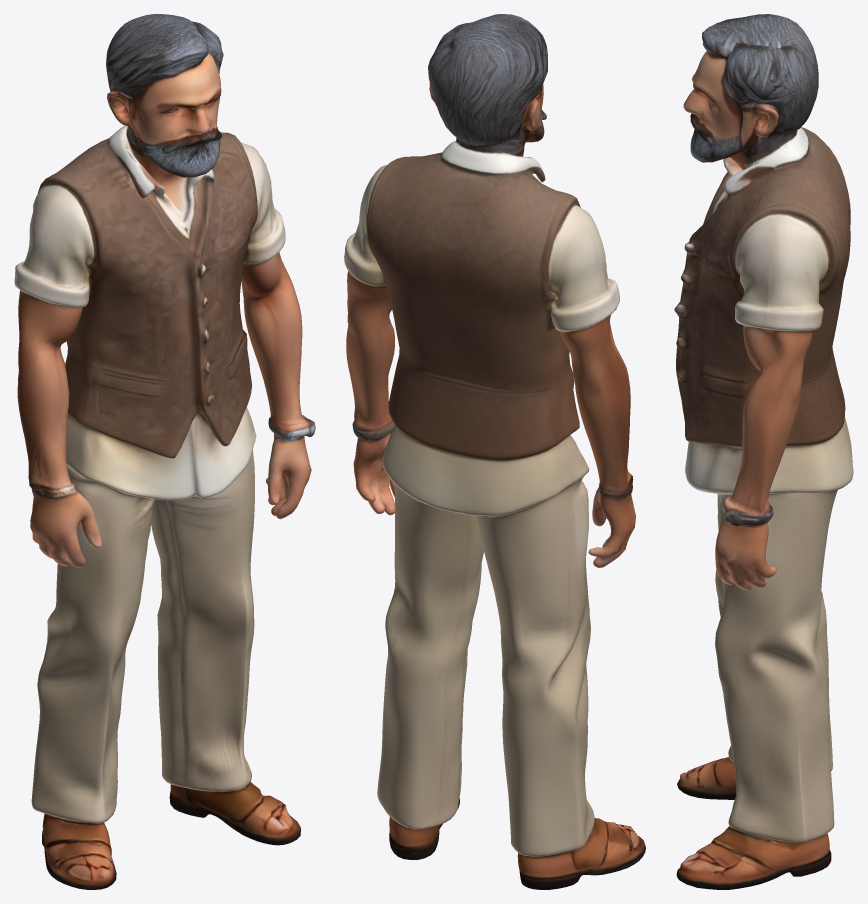
Rendered from hyper3d-indian-uncle-source.glb.
The picture shows the model from 3 angles, left to right: view 1: azimuth 30°, elevation 25°; view 2: azimuth 150°, elevation 25°; view 3: azimuth 270°, elevation 25°; orthographic projection.
Visible parts, largest first — view 1: model; view 2: model; view 3: model.
Part boxes in pixels (bbox=[...]): model: bbox=[14, 14, 315, 889]; model: bbox=[344, 14, 645, 889]; model: bbox=[674, 14, 853, 889].
Size of the model in its own units: 0.6799 by 1.9 by 0.3763.
Materials: 1 (1 with a texture image).
